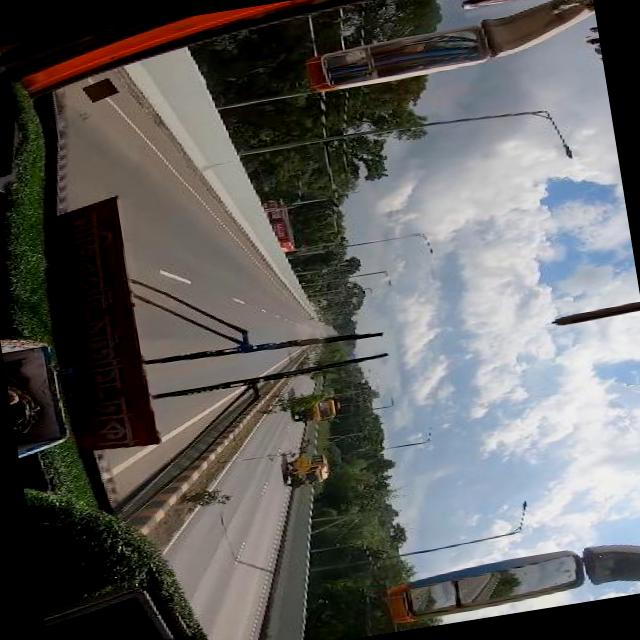truck: (290, 390, 340, 426), (285, 452, 333, 489)
